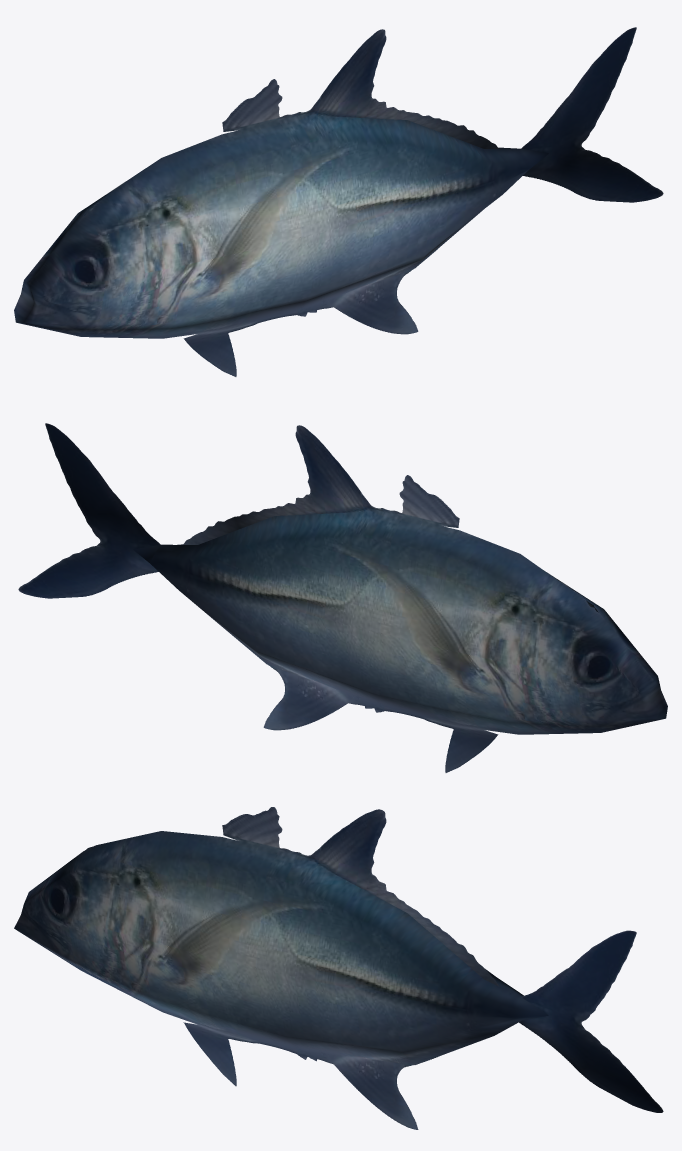
The model's file is fish.fbx.
The picture shows the model from 3 angles, top to bottom: view 1: azimuth 30°, elevation 25°; view 2: azimuth 150°, elevation 25°; view 3: azimuth 330°, elevation 25°; orthographic projection.
Parts seen in each view (by area): view 1: 平面.001; view 2: 平面.001; view 3: 平面.001.
Part boxes in pixels (left/top/right/bottom): 平面.001: left=14, top=27, right=663, bottom=376; 平面.001: left=18, top=423, right=667, bottom=772; 平面.001: left=14, top=807, right=663, bottom=1129.
Size of the model in its own units: 461 by 217 by 56.56.
